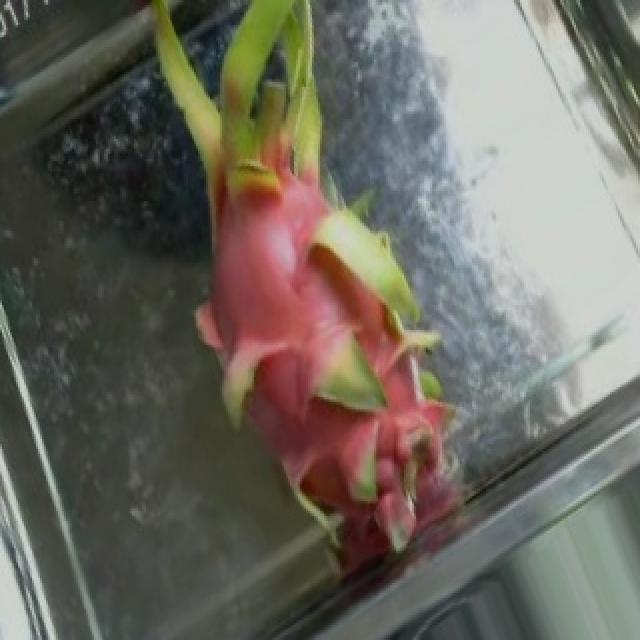fruit: (106, 134, 542, 608)
